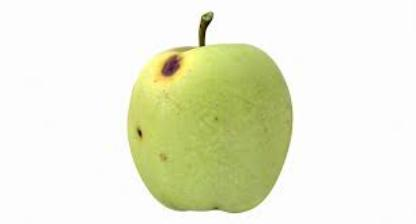defect: (158, 48, 186, 88), (128, 116, 154, 154)
